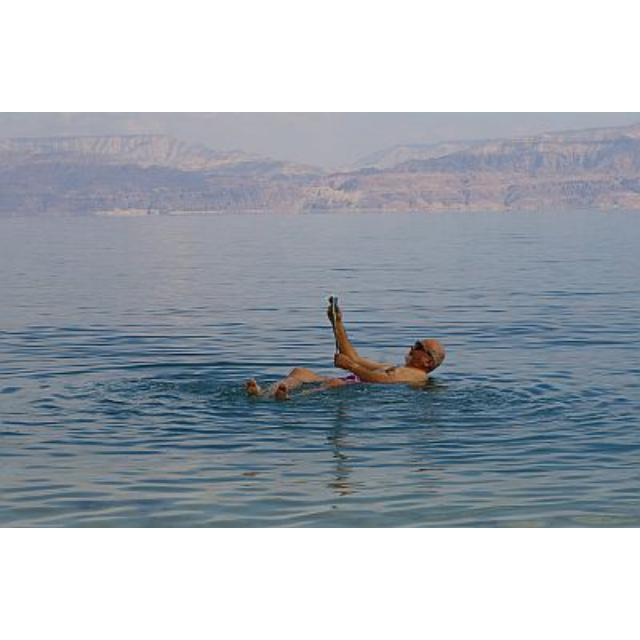human: (244, 297, 447, 401)
